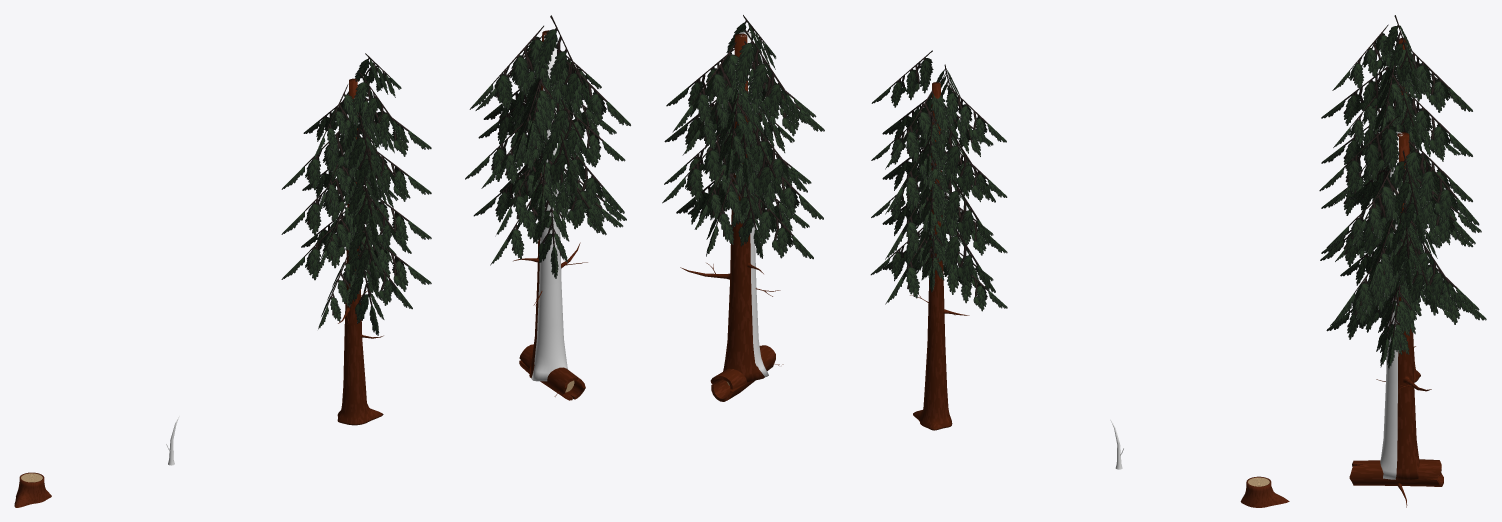
Rendered from pine_tree_1.fbx.
The picture shows the model from 3 angles, left to right: view 1: azimuth 30°, elevation 25°; view 2: azimuth 150°, elevation 25°; view 3: azimuth 270°, elevation 25°; orthographic projection.
Parts seen in each view (by area): view 1: pine_1_branches, pine_2_branches, pinetree_1.001, pine_tree_2, tree_log, stump; view 2: pine_1_branches, pine_2_branches, pine_tree_1, pine_tree_2, tree_log, pinetree_1.001, stump; view 3: pine_1_branches, pine_2_branches, pine_tree_1, pinetree_1.001, tree_log.
Boxes of the visible parts, <box> form: pine_1_branches: <box>465,15,630,278</box>; pine_2_branches: <box>281,53,431,335</box>; pinetree_1.001: <box>531,33,567,381</box>; pine_tree_2: <box>337,78,383,425</box>; tree_log: <box>519,344,585,400</box>; stump: <box>14,472,51,507</box>; pine_1_branches: <box>662,15,824,259</box>; pine_2_branches: <box>870,50,1007,311</box>; pine_tree_1: <box>680,33,780,382</box>; pine_tree_2: <box>910,82,969,430</box>; tree_log: <box>710,345,783,401</box>; pinetree_1.001: <box>739,31,768,377</box>; stump: <box>1240,476,1289,507</box>; pine_1_branches: <box>1319,115,1486,369</box>; pine_2_branches: <box>1321,15,1473,261</box>; pine_tree_1: <box>1376,132,1431,480</box>; pinetree_1.001: <box>1380,131,1402,479</box>; tree_log: <box>1349,459,1443,507</box>.
Bounding box in the file's own units: 5701 × 3471 × 1365.
